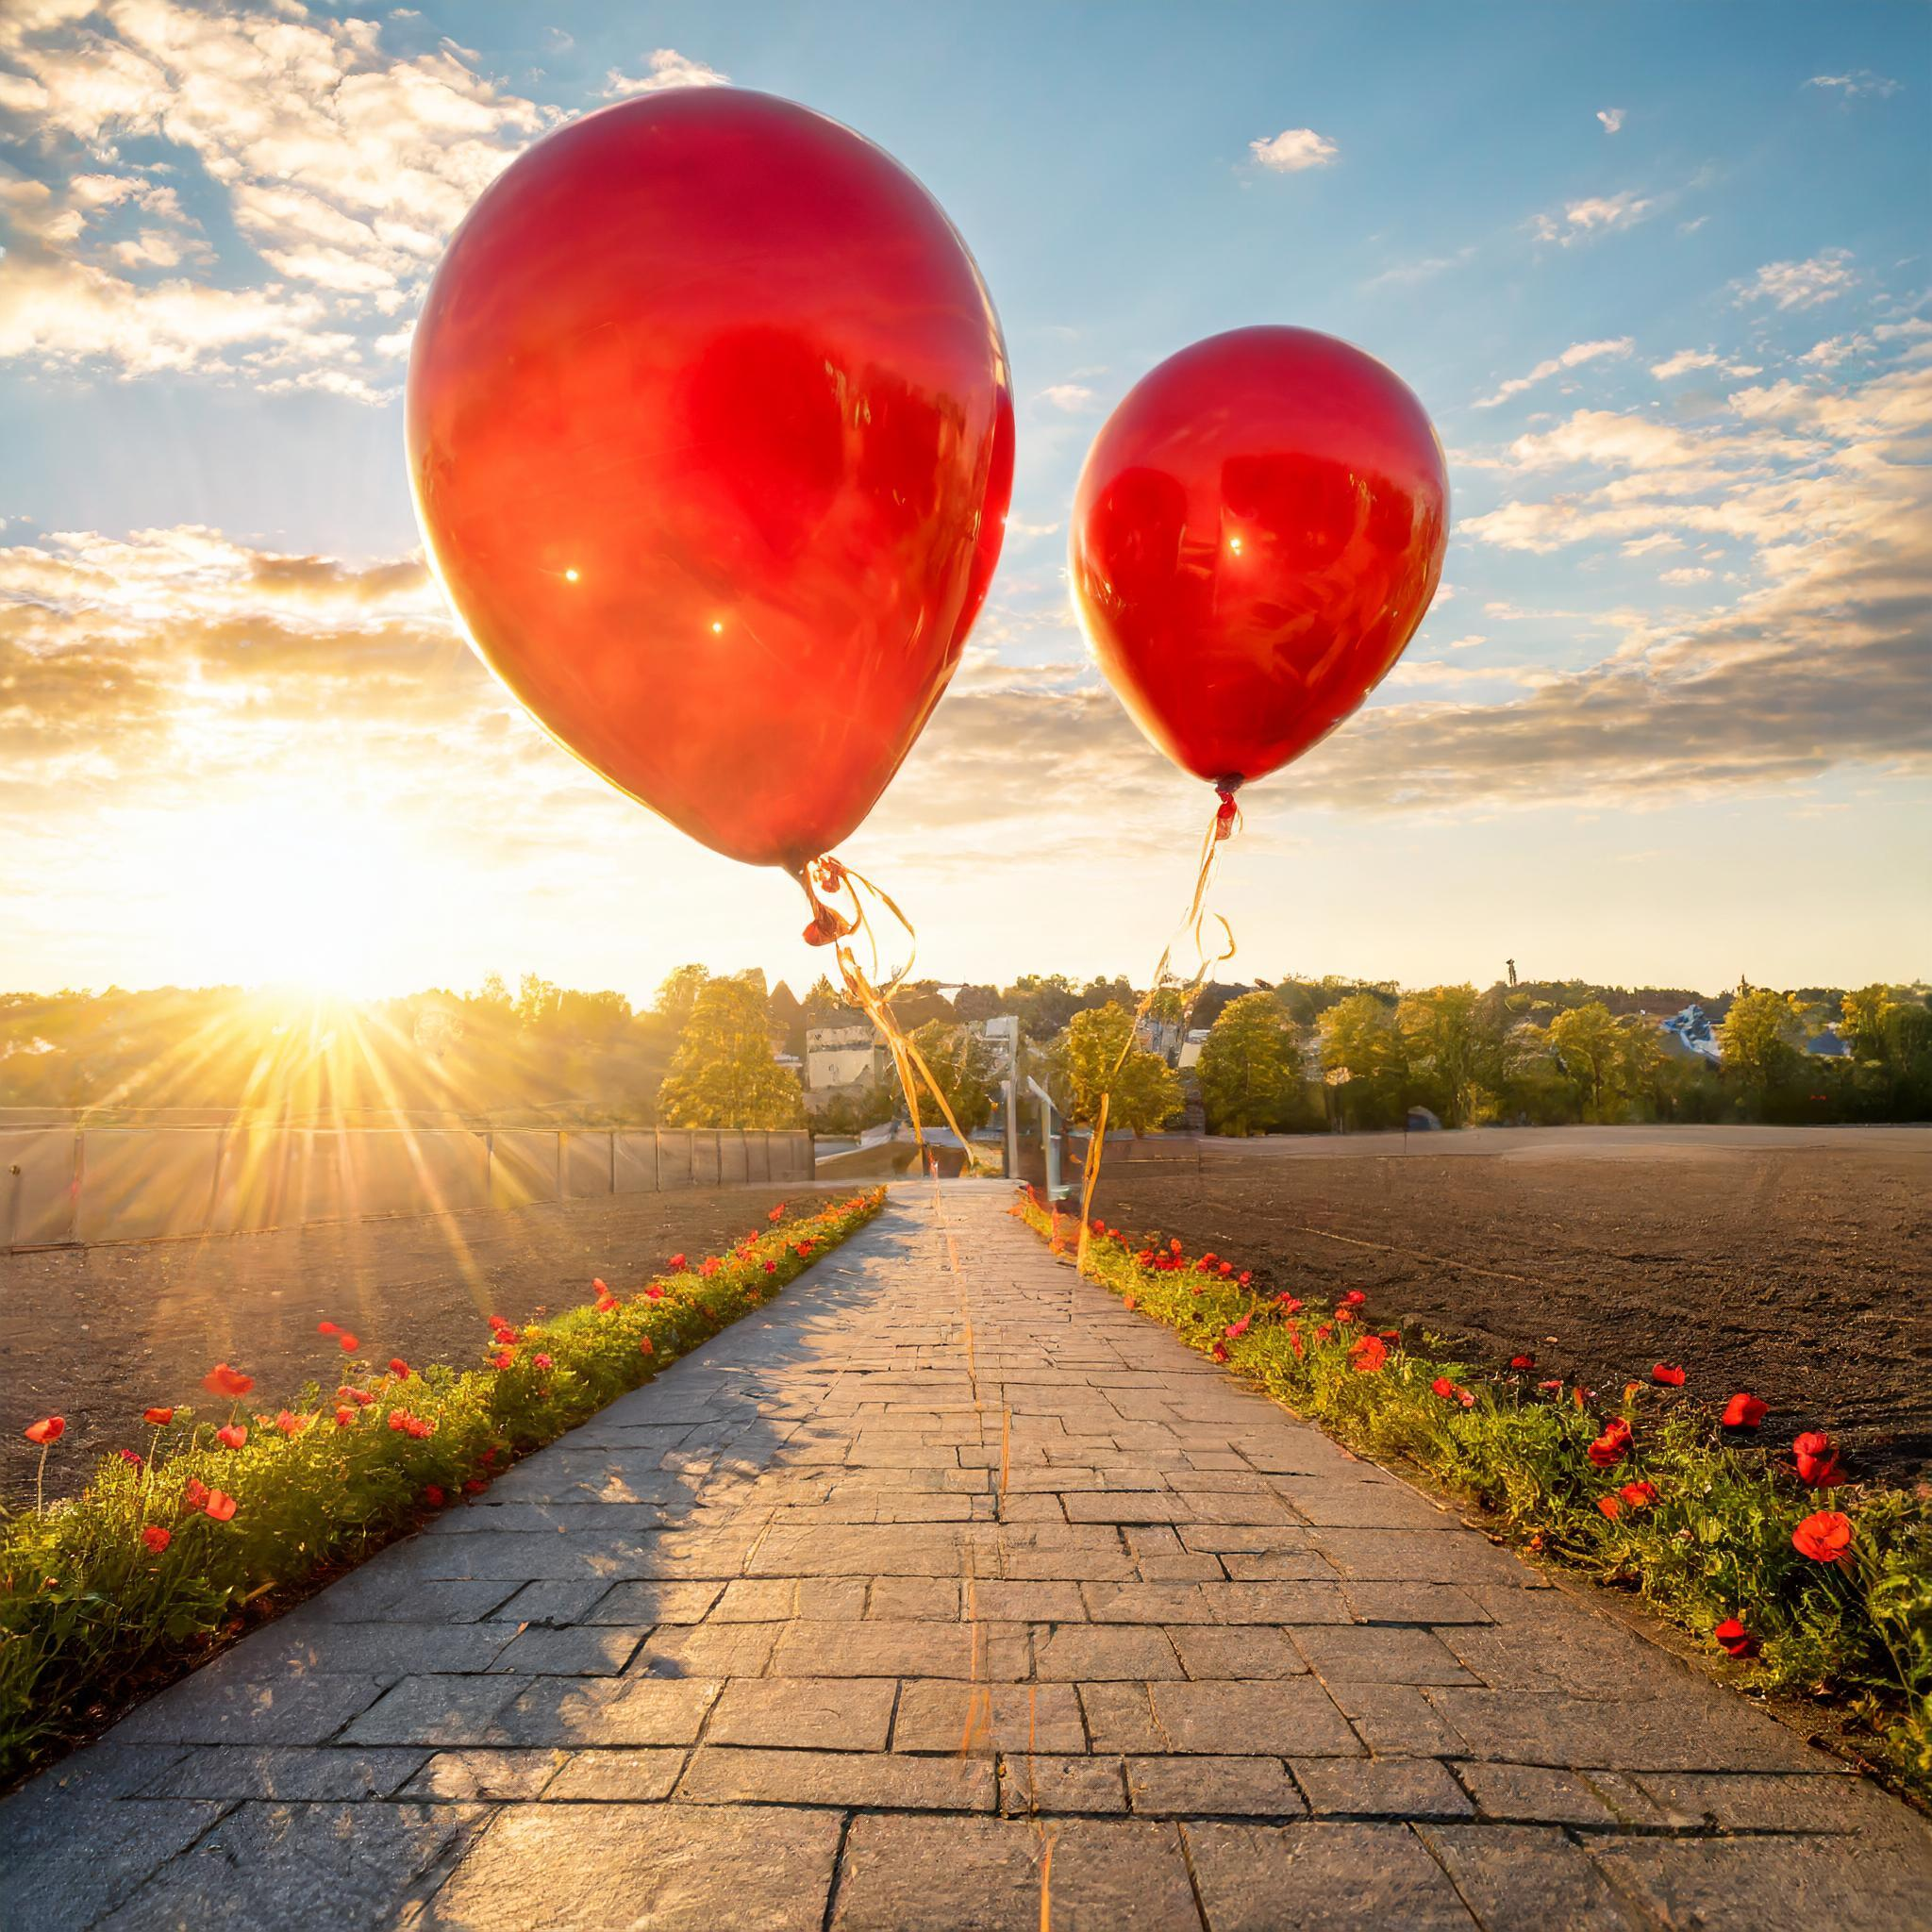red: (373, 67, 1023, 977), (1053, 297, 1460, 840)
